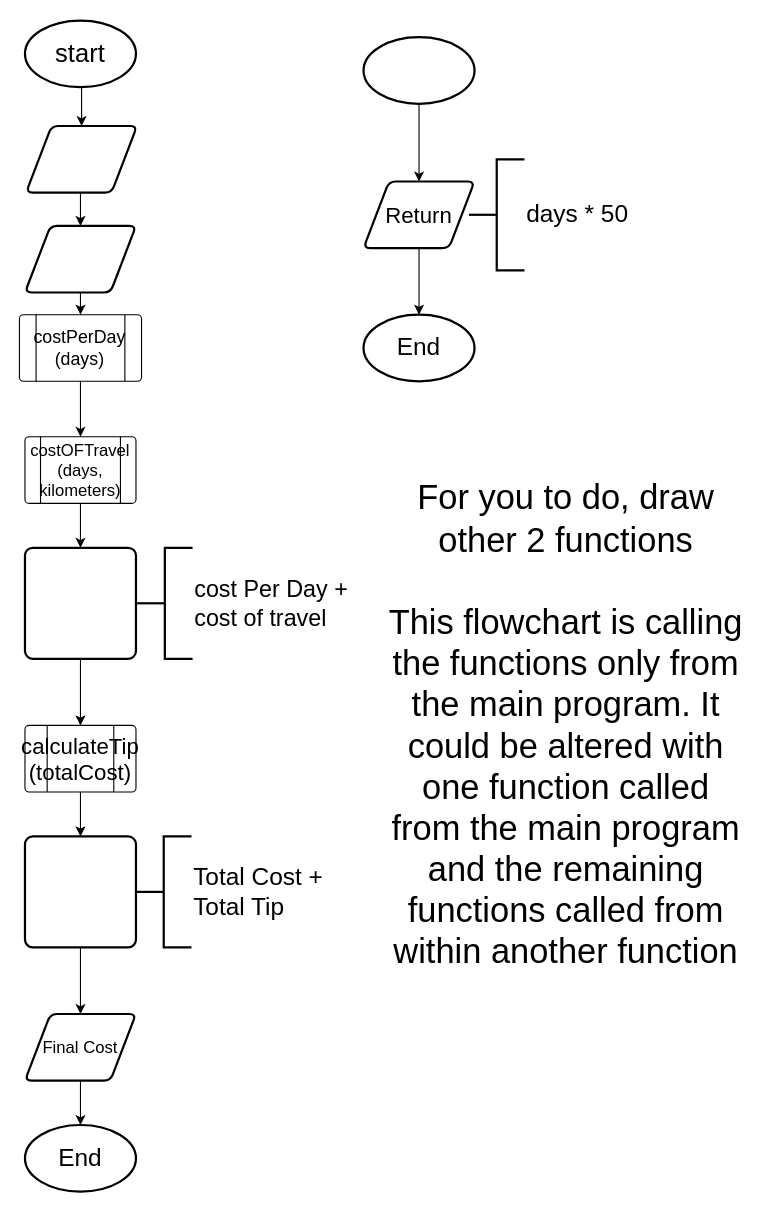
Some shapes in this 766 by 1211 pixel diagram are drawn without their labels. Here are the shapes that lost their labels. From the top down, the box of each, then its label:
(362, 36, 475, 104): costPerDay(days)
(24, 124, 138, 193): kilometers
(23, 224, 137, 293): days
(23, 546, 137, 659): calculate total cost
(23, 835, 137, 948): calculate final cost
